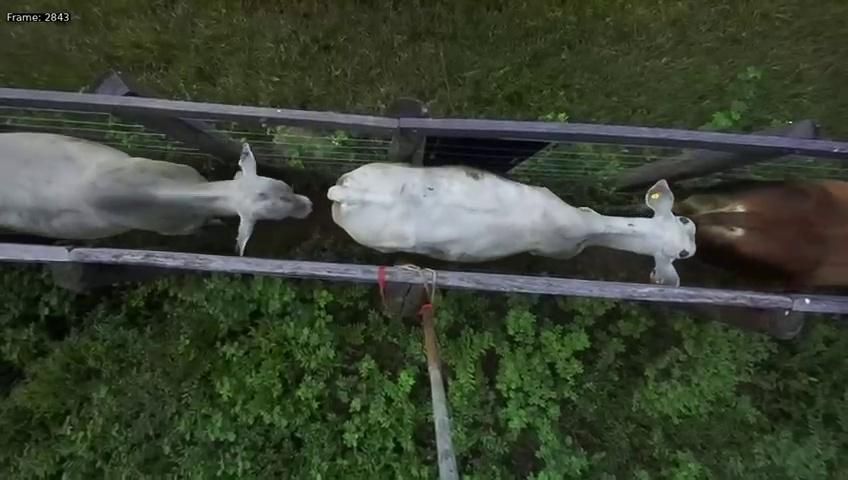cattle: (324, 144, 706, 291), (1, 127, 313, 256)
